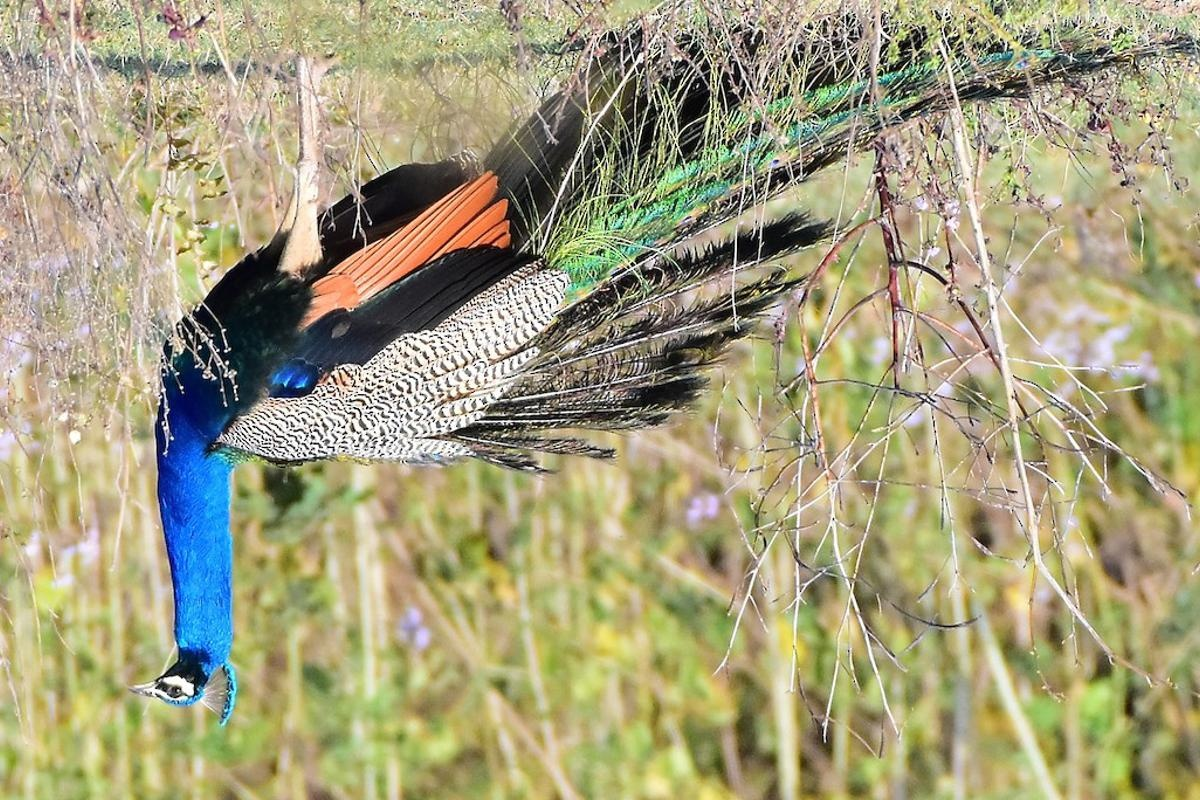peacock: (70, 50, 953, 728)
